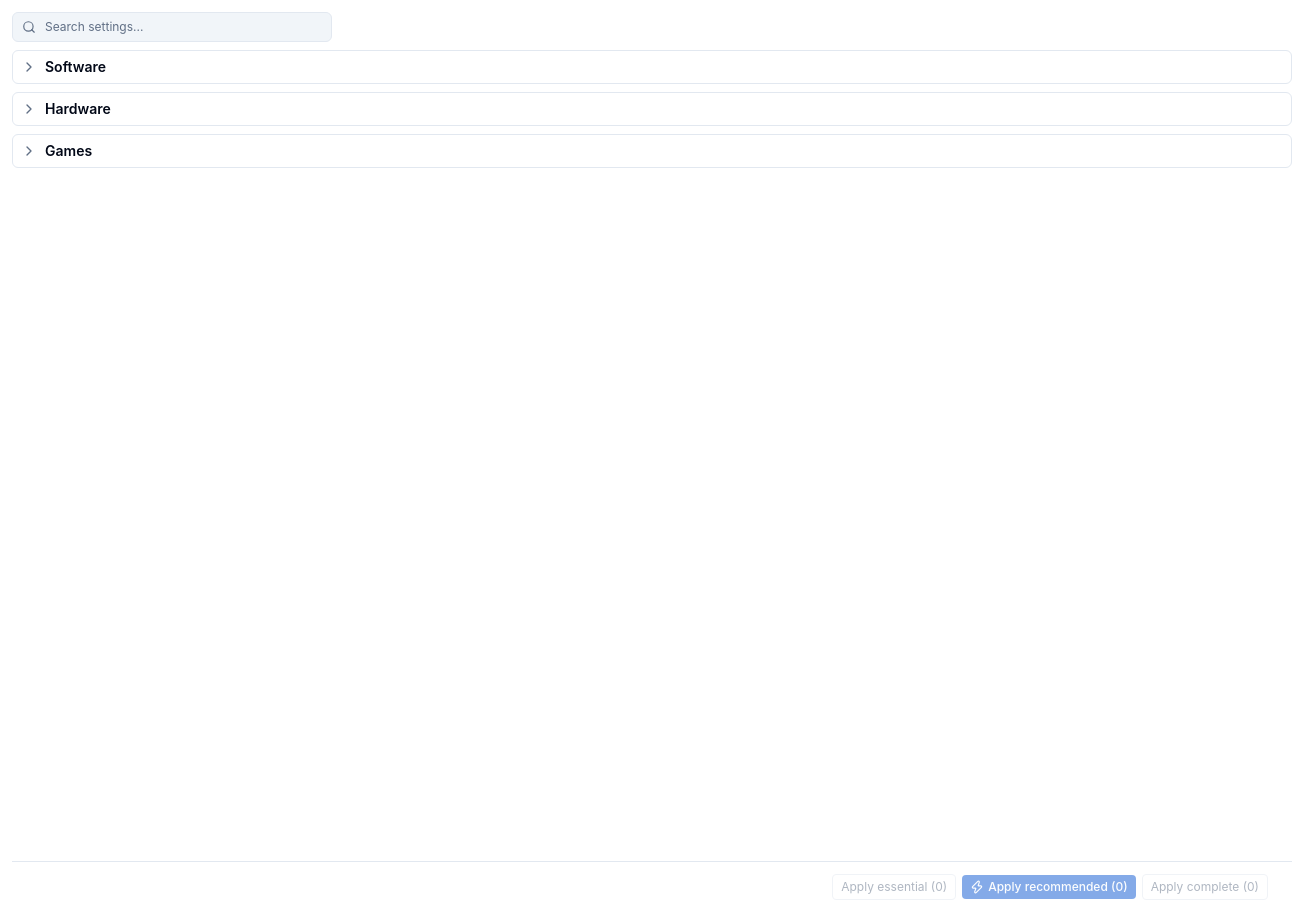
Scenario: a check that read nothing says so on its line › names elevation as the likely reason when fpstune is not elevated
Step 1. Click the button "Software" → coordinates (76, 66), box [21, 57, 1275, 77]
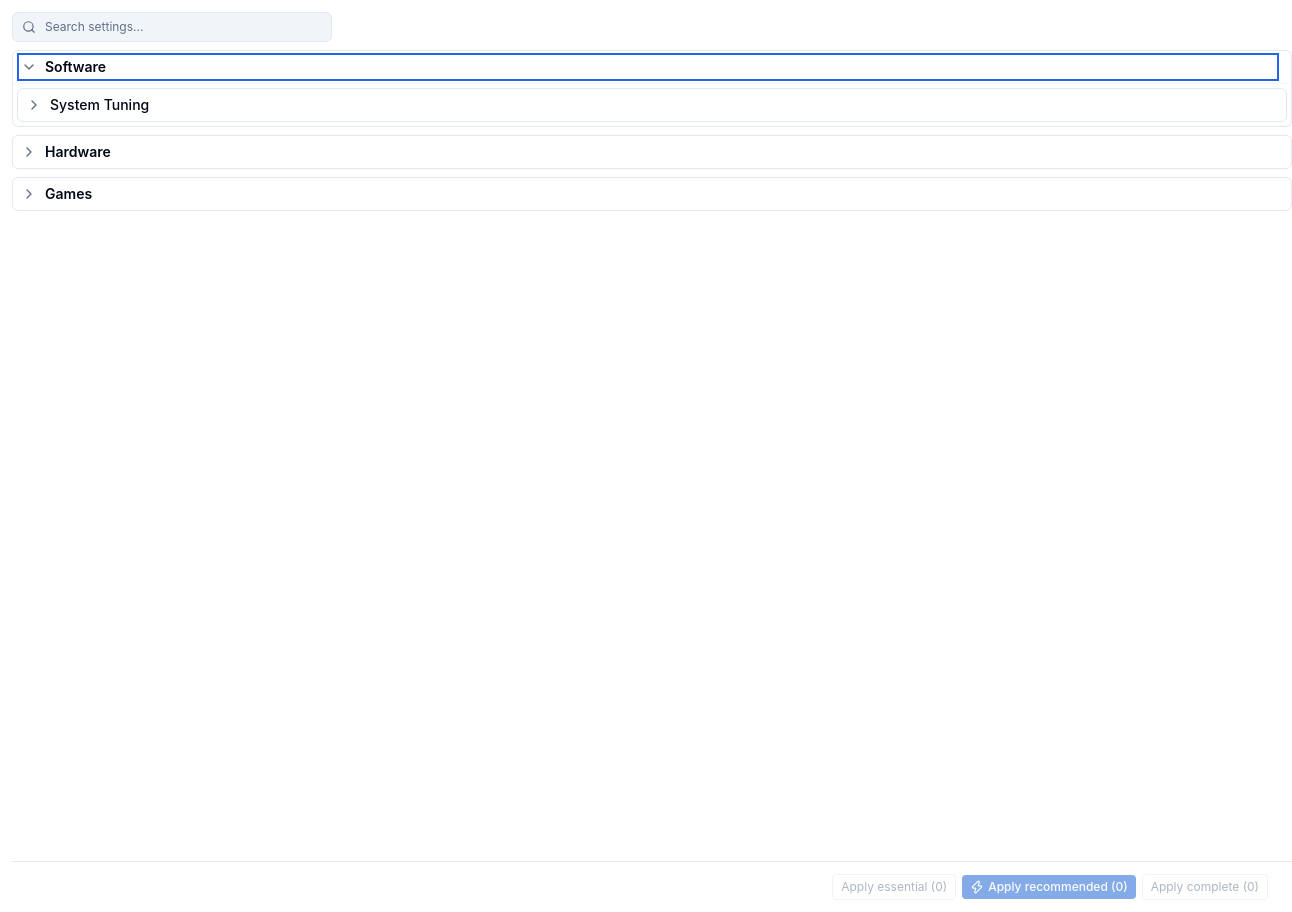
Step 2. Click the button "System Tuning" → coordinates (100, 104), box [26, 95, 1270, 115]
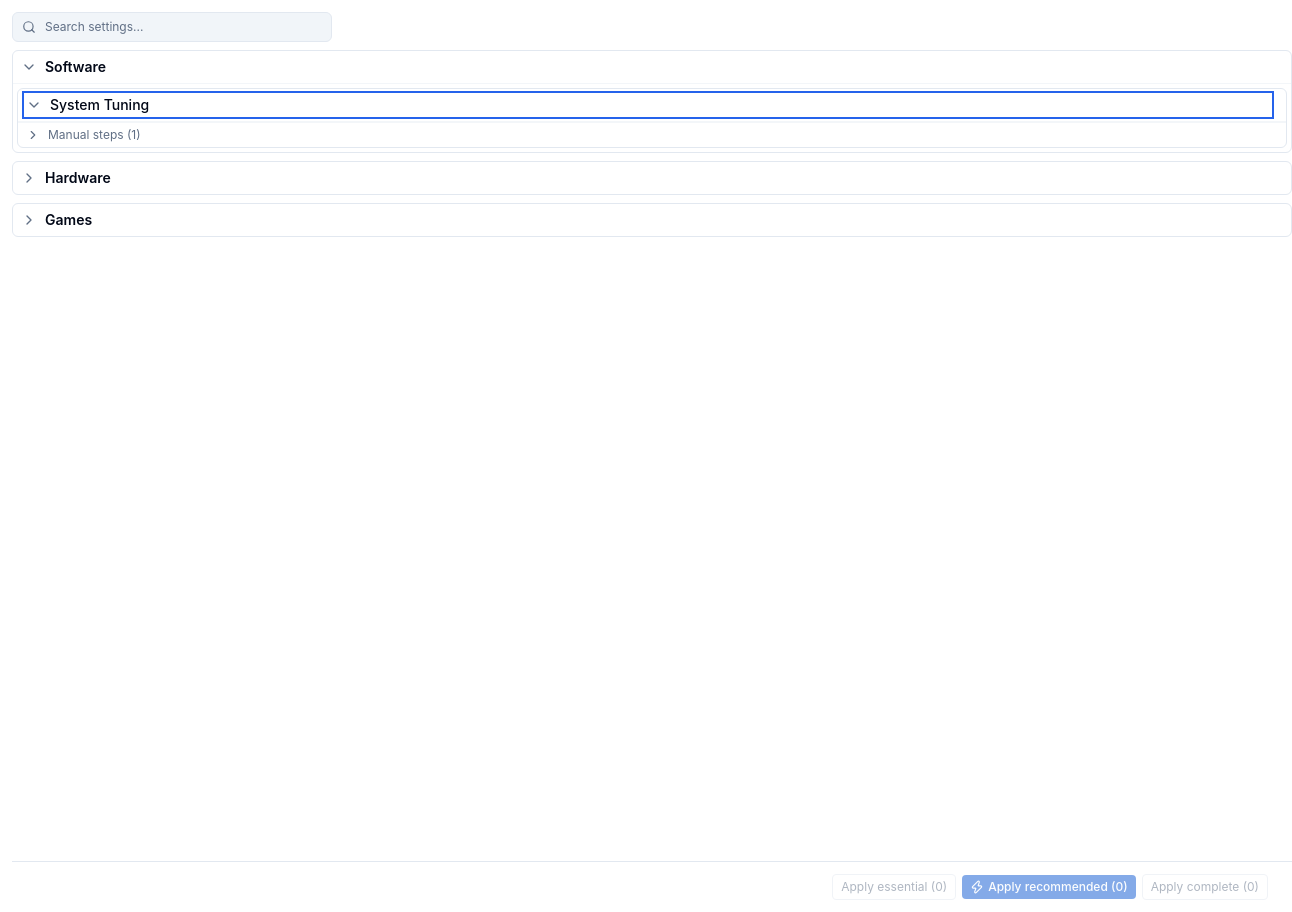
Step 3. Click the button "Manual steps (1)" → coordinates (94, 134), box [18, 123, 1286, 147]
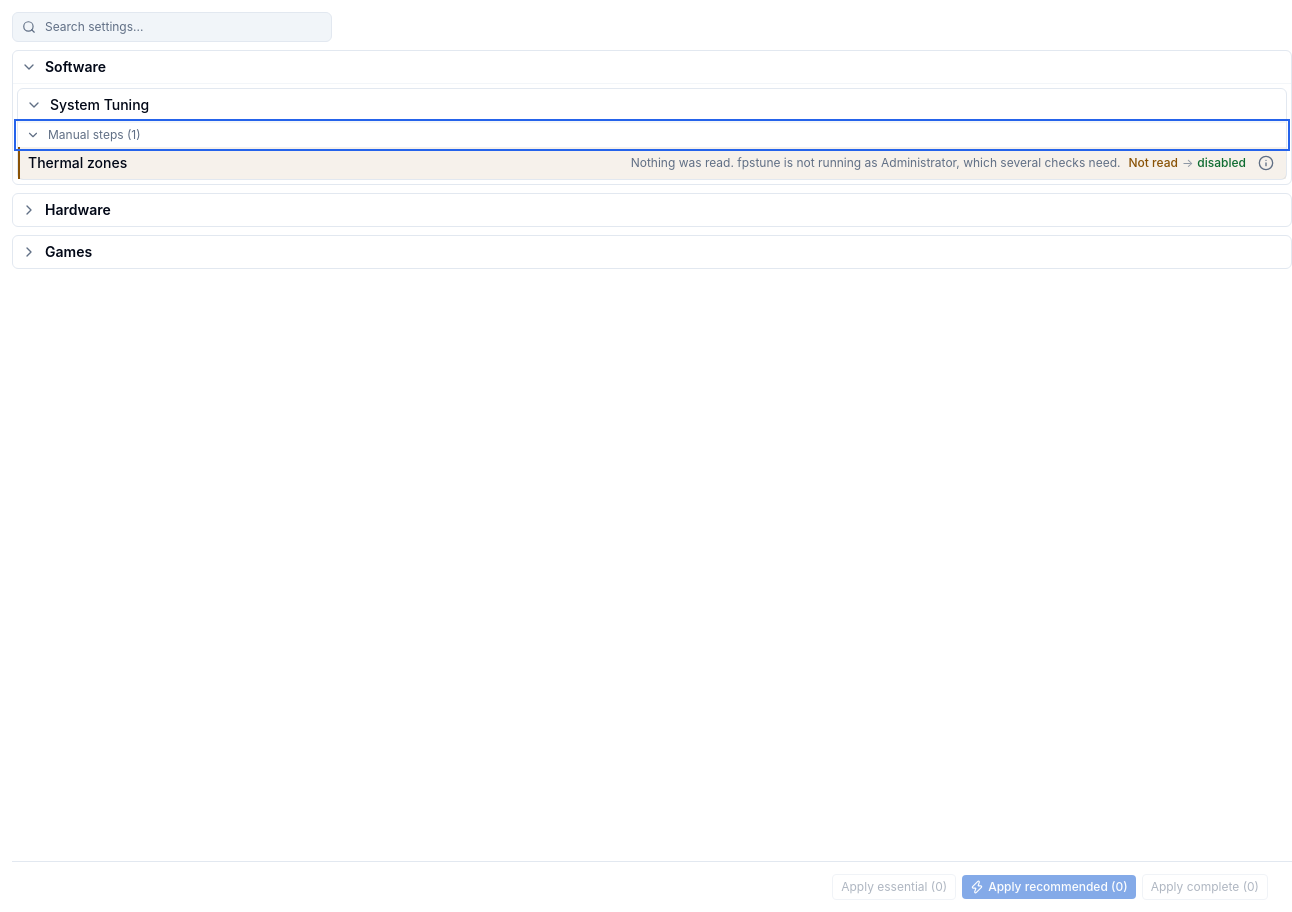
Now the text "not running as Administrator" is shown, box [631, 155, 1120, 170]
